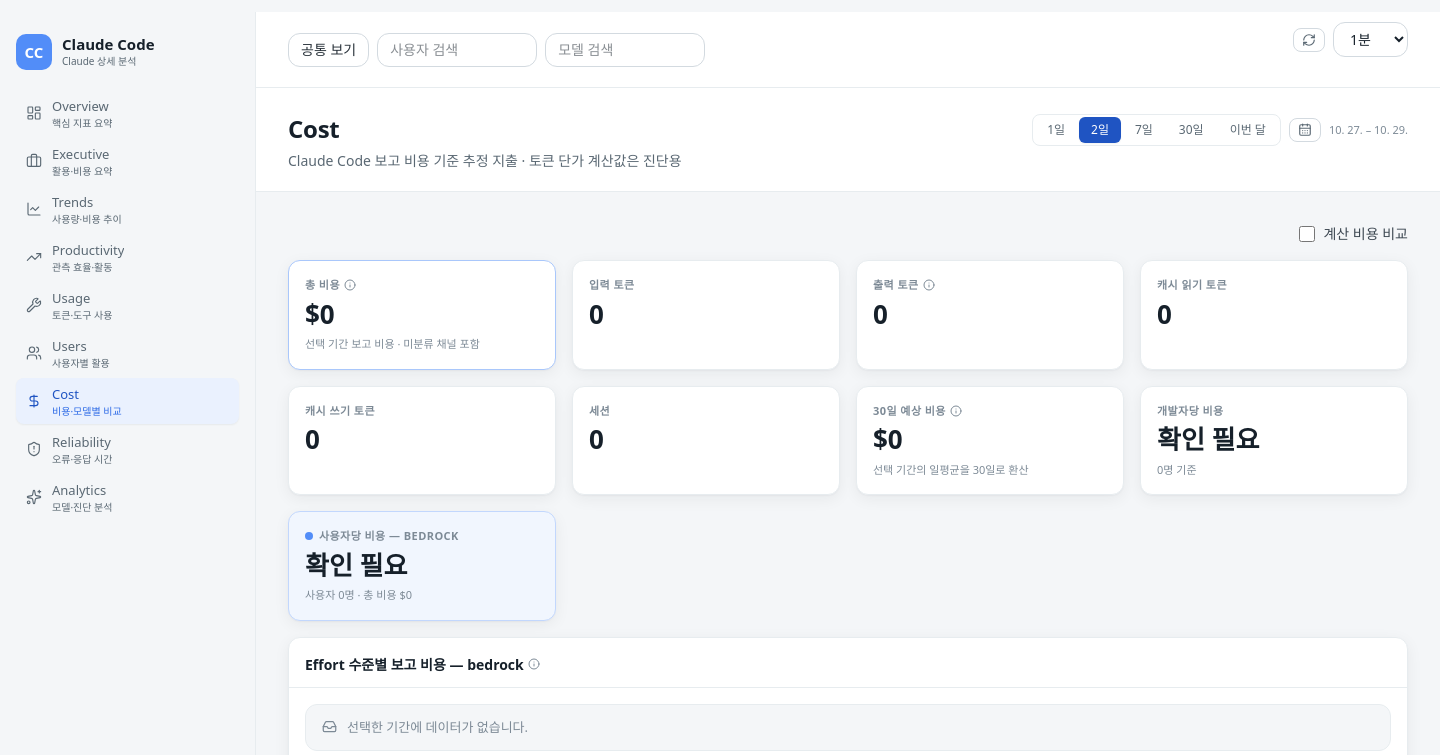
it: leaving comparison mode clears sorting by hidden computed columns
The width and height of the screenshot is (1440, 755).
Click the checkbox labelled "계산 비용 비교" at [1307, 234], box [1299,226,1315,242]
(page scrolled)
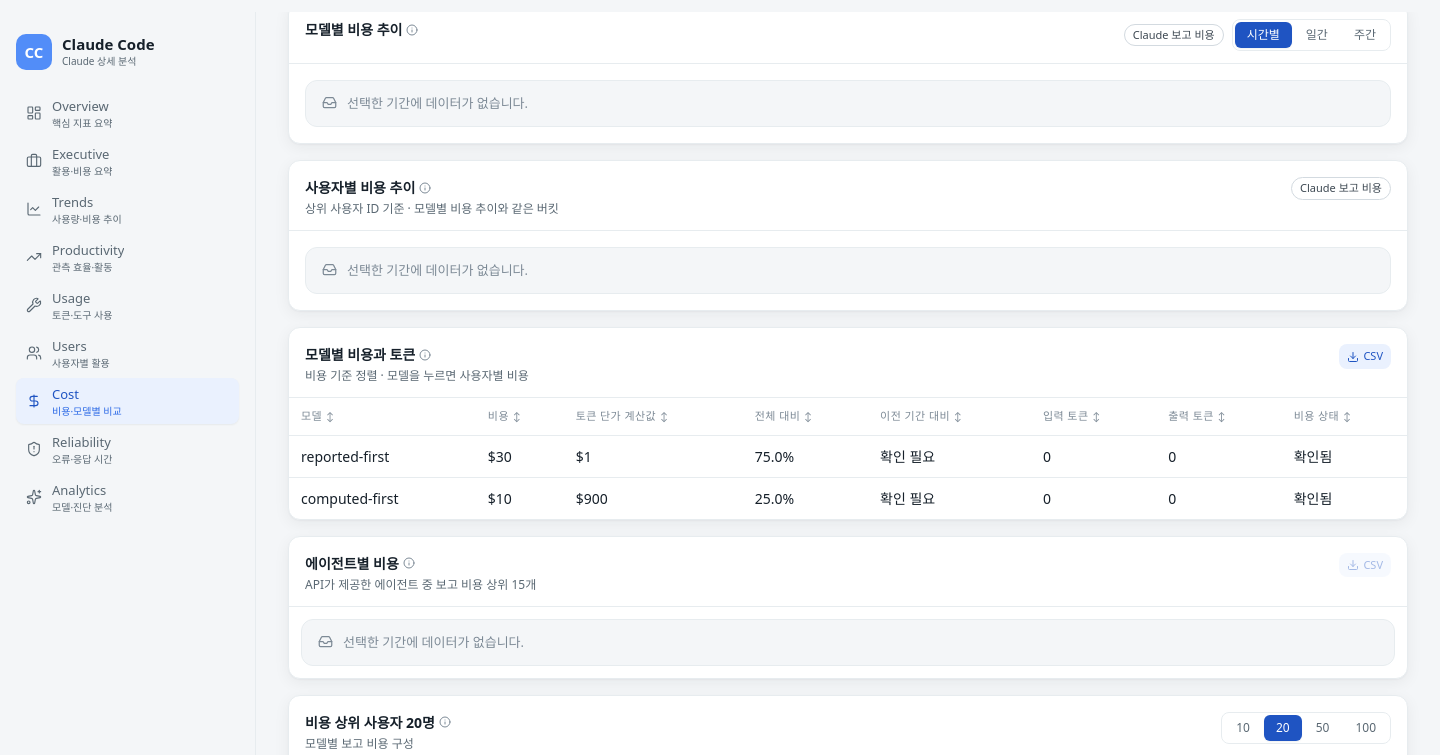
Click the text "토큰 단가 계산값" at [622, 417], box [576,408,668,425]
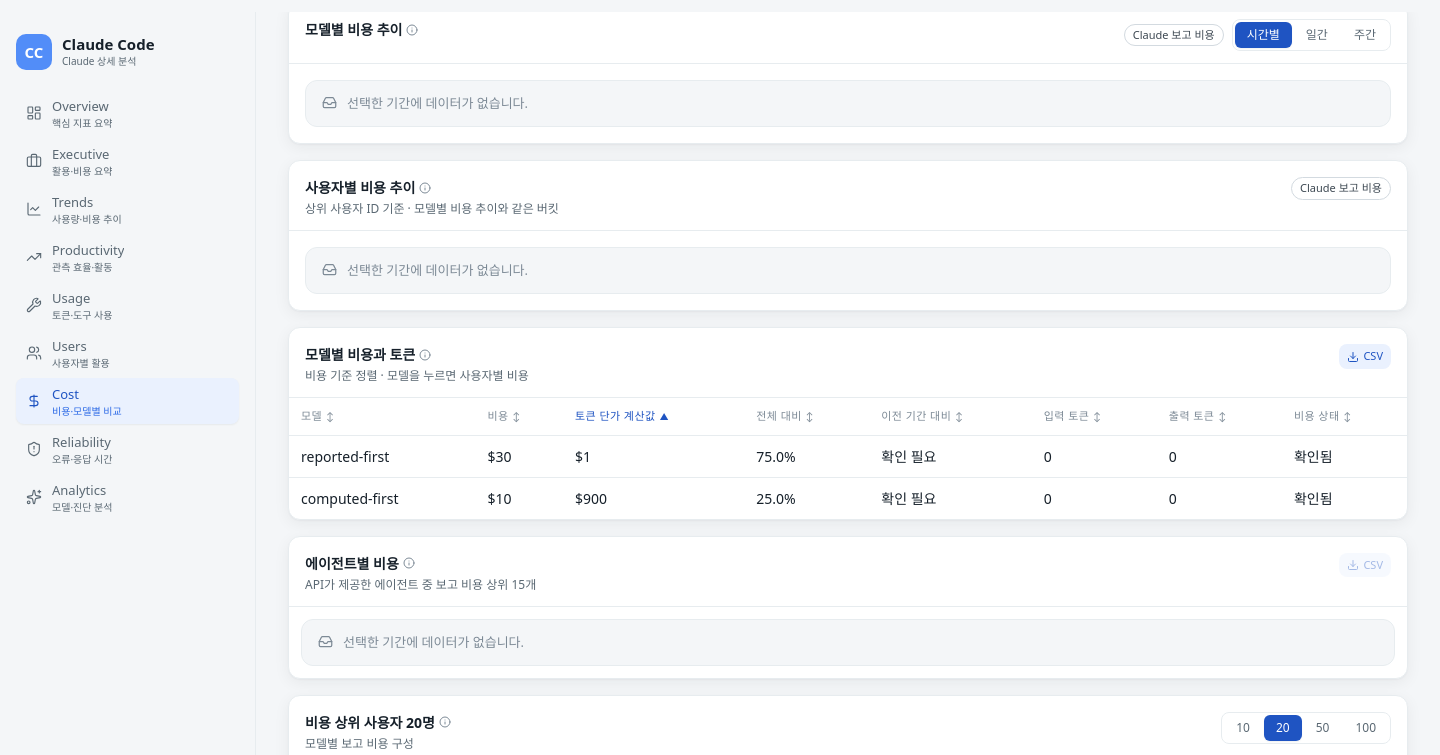
Click the text "토큰 단가 계산값" at [622, 417], box [575,408,669,425]
(page scrolled)
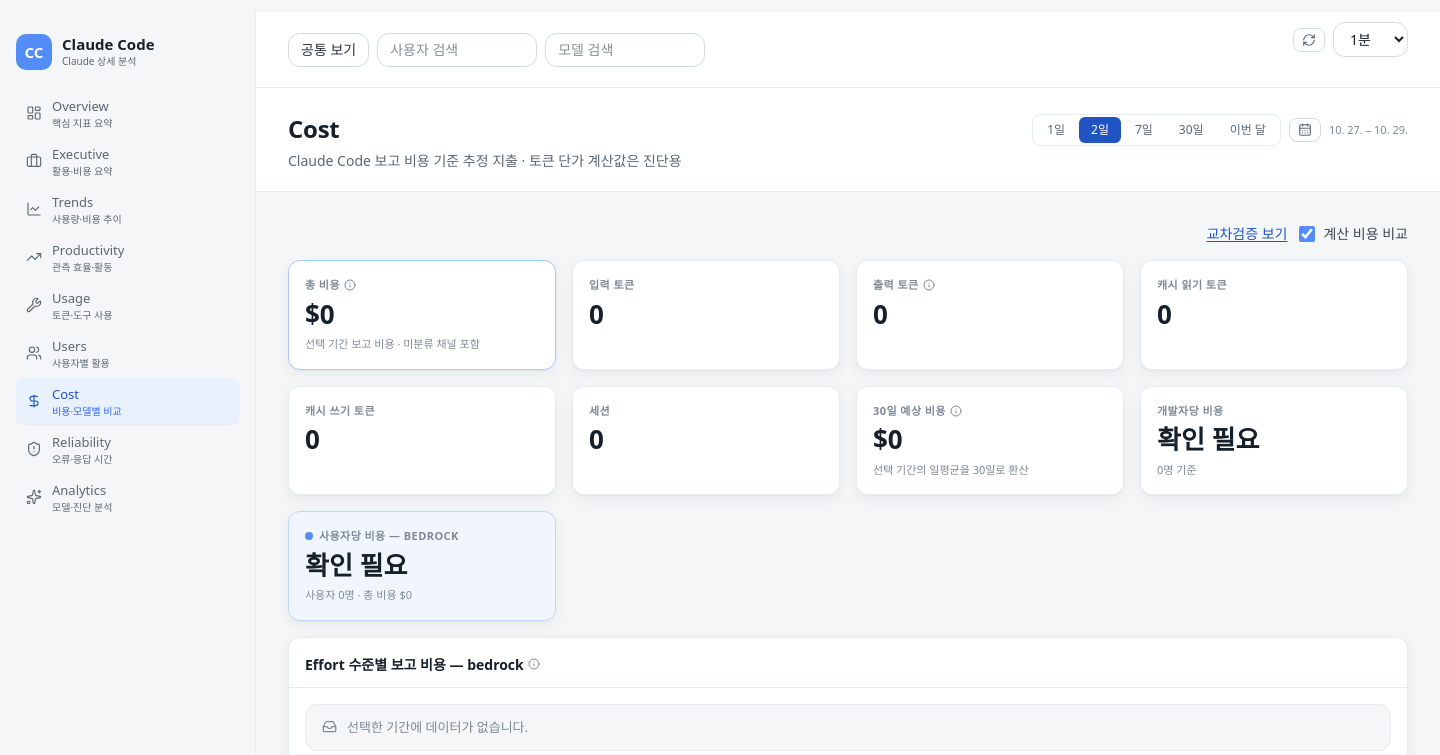
Click the checkbox labelled "계산 비용 비교" at [1307, 234], box [1299,226,1315,242]
(page scrolled)
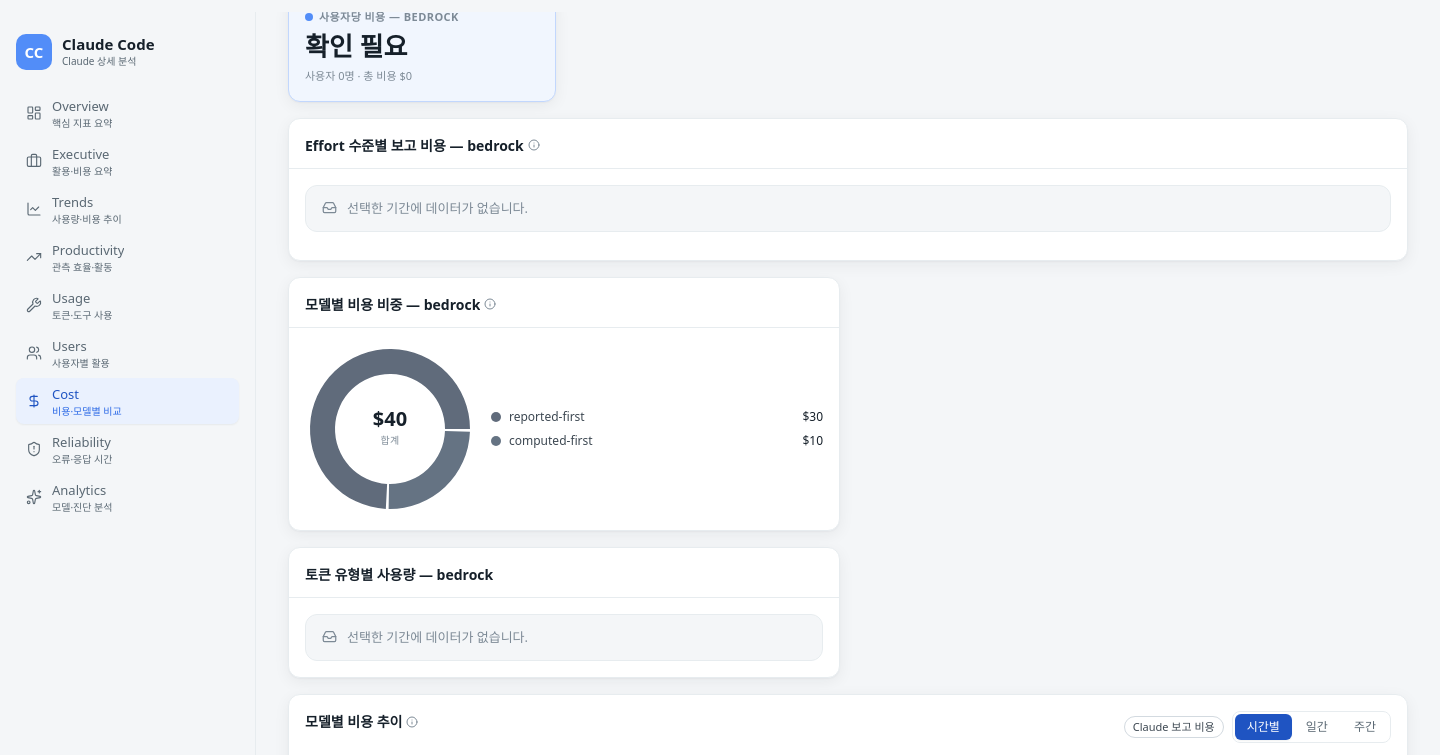
Expected: the text "reported-first" is shown, [509,408,585,425]
Expected: the text "토큰 단가 계산값" is gone
